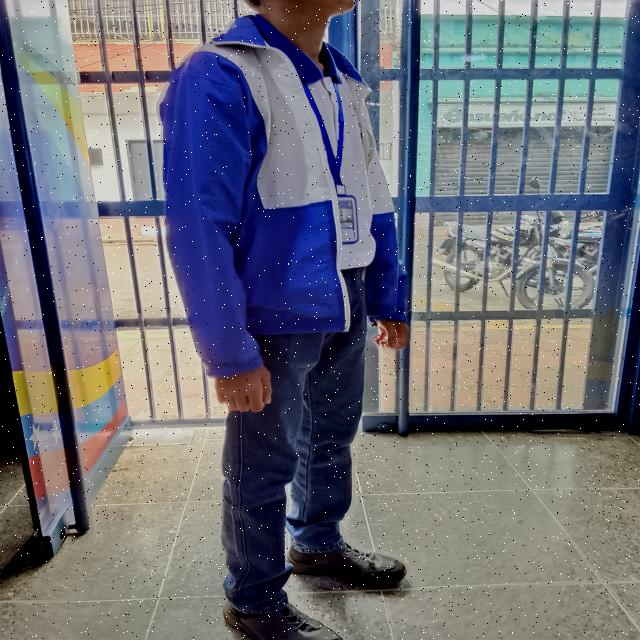carnet: (331, 196, 357, 243)
chaqueta_unefa: (159, 14, 411, 378)
